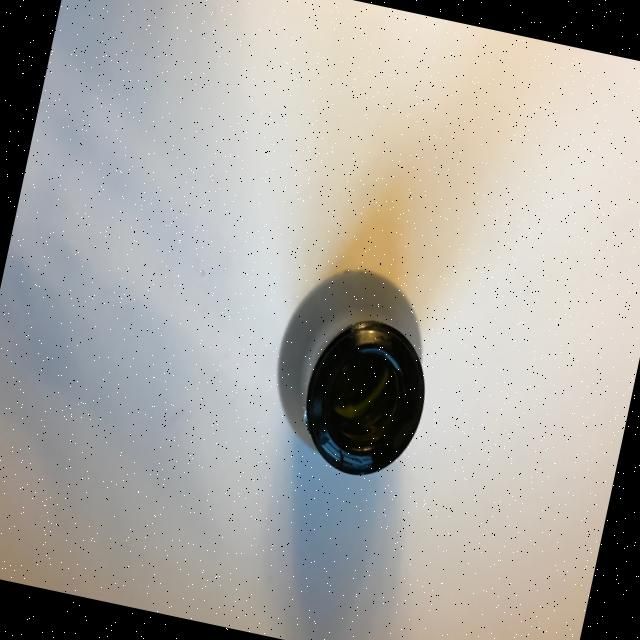glass: (253, 250, 452, 490)
